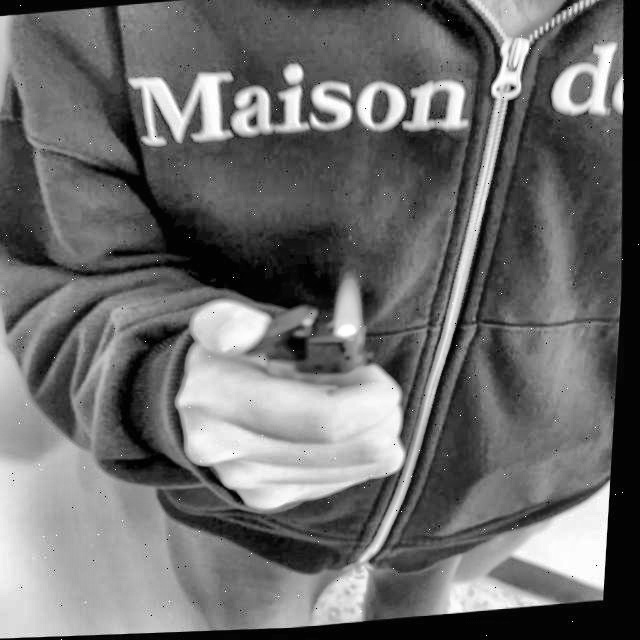Fire: (337, 278, 369, 343)
